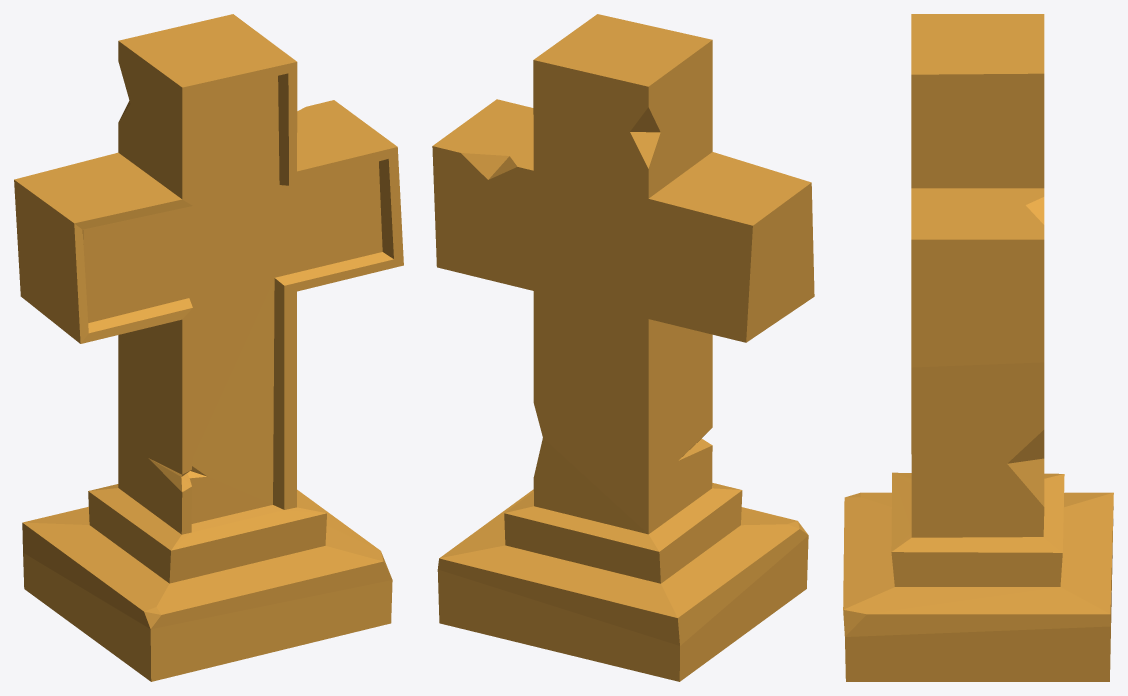
File: gravestone-old-cross.fbx
3 renders of one model, left to right at view 1: azimuth 30°, elevation 25°; view 2: azimuth 150°, elevation 25°; view 3: azimuth 270°, elevation 25°, orthographic. The views are drawn at different scales.
Parts seen in each view (by area): view 1: gravestone-old-cross; view 2: gravestone-old-cross; view 3: gravestone-old-cross.
Boxes of the visible parts, x1,y1,x2,y2 form: gravestone-old-cross: (14, 14, 403, 681); gravestone-old-cross: (432, 14, 814, 681); gravestone-old-cross: (843, 14, 1113, 681).
Size of the model in its own units: 0.3768 by 0.6143 by 0.2608.
